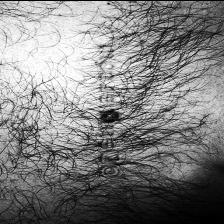Unclassified: (116, 99, 146, 127)
